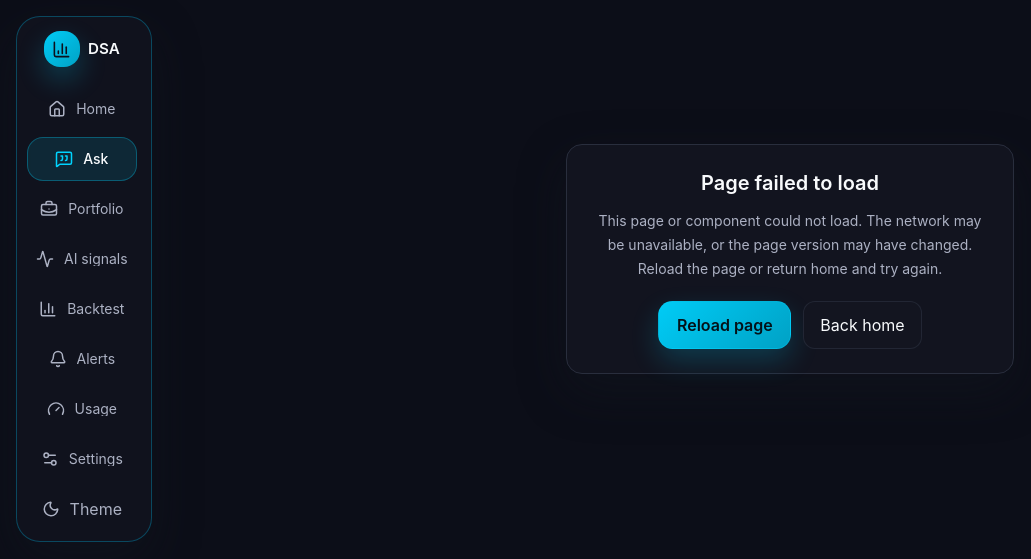
RouteOutletBoundary › catches rejected lazy route imports inside the shell and resets on navigation
expect the navigation bar named "Main navigation" is shown: met, box 27,87 -> 137,531
expect the heading "Page failed to load" is shown: met, box 701,171 -> 879,195
Click the link "Portfolio": (82, 209) 40,200 -> 123,218
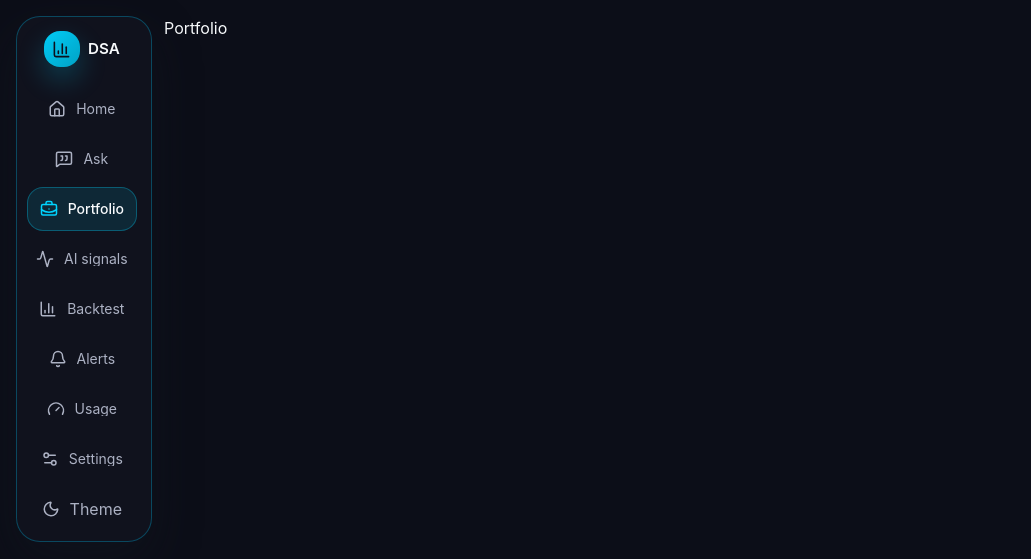
expect the text with test id "portfolio-page" is shown: met, box 164,18 -> 227,38
expect the heading "Page failed to load" is gone: met
